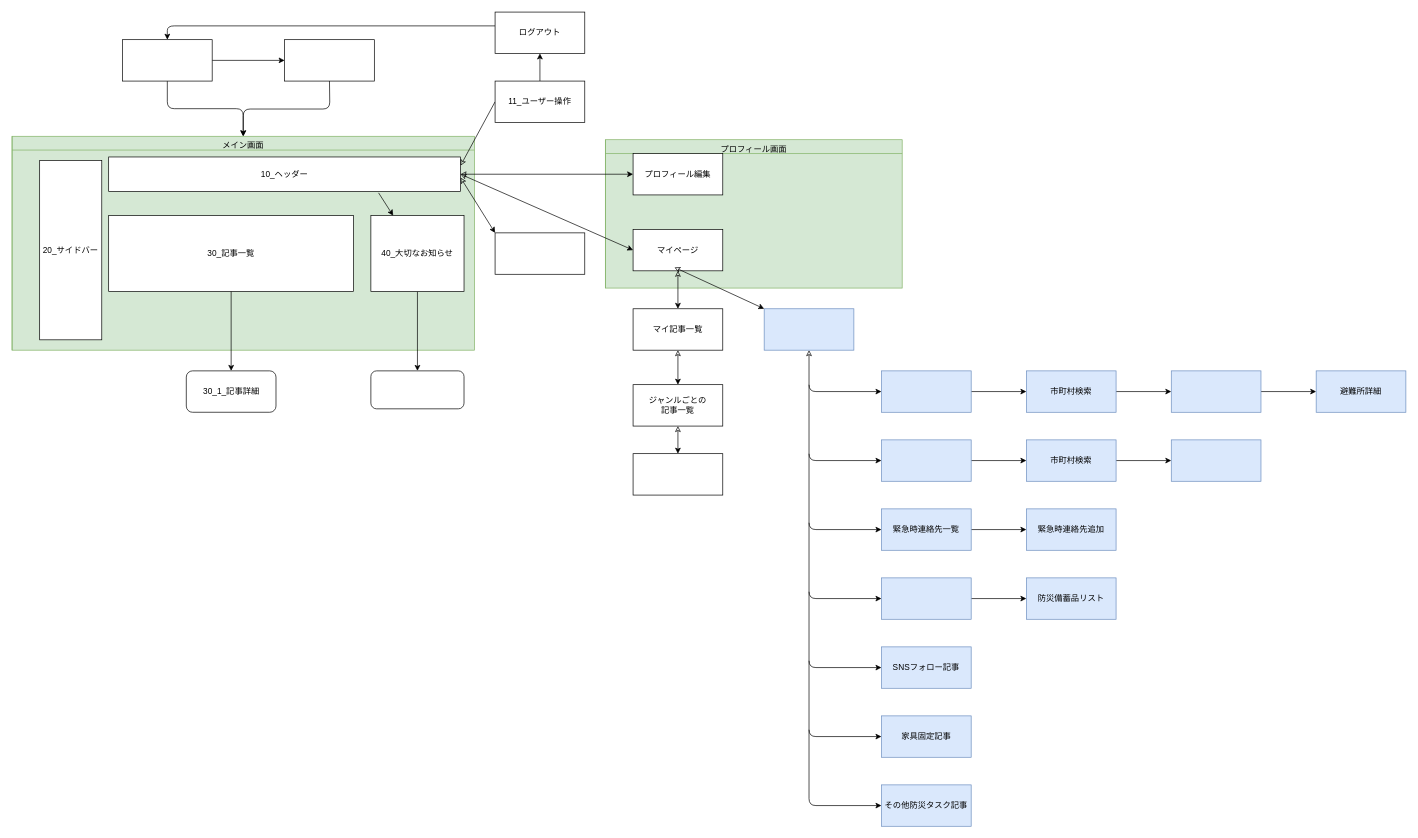
Image size: 1418x838. Some labels were removed from this diagram. The centre of each missing label's shape, as x and y in pixels:
01_ログイン: (x=167, y=60)
02_アカウント作成: (x=329, y=60)
お知らせ一覧: (x=539, y=253)
お知らせ詳細: (x=417, y=389)
ハザードマップ 都道府県検索: (x=926, y=460)
災害種別選択: (x=1216, y=460)
記事詳細: (x=677, y=474)
避難所 都道府県検索: (x=926, y=391)
避難所一覧: (x=1216, y=391)
防災タスク: (x=808, y=329)
防災備蓄品リスト 家族設定: (x=926, y=598)
